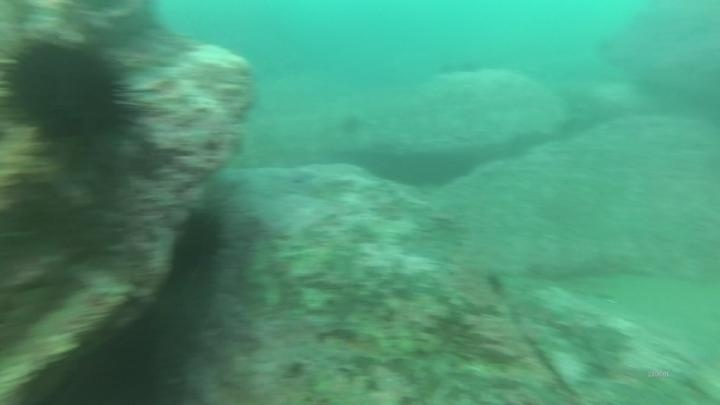echinus: (0, 32, 142, 153), (170, 205, 229, 277)
